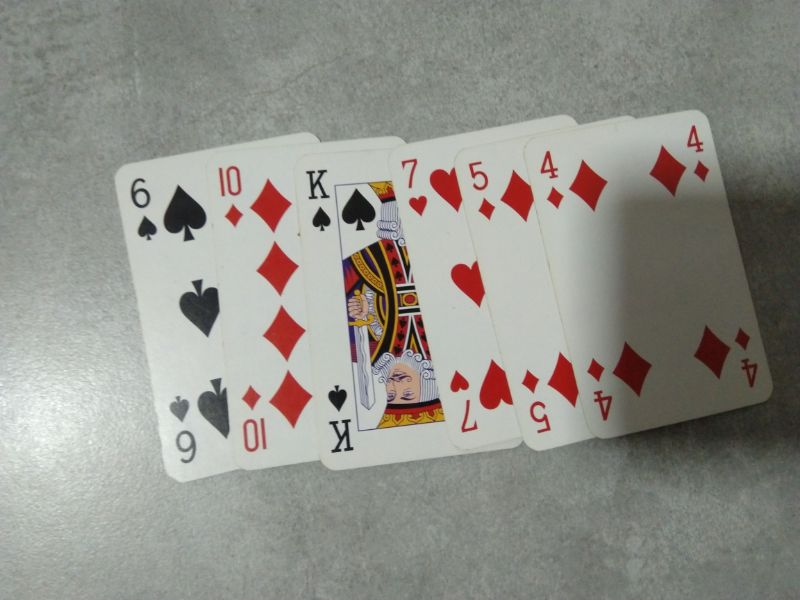4d: (579, 352, 624, 430), (725, 322, 772, 395), (532, 143, 572, 213), (677, 117, 717, 185)
5d: (512, 360, 559, 440), (460, 154, 504, 224)
6s: (161, 390, 206, 469), (122, 169, 164, 248)
7h: (391, 151, 440, 223), (443, 365, 483, 441)
Ks: (318, 377, 362, 457), (299, 163, 340, 238)
Td: (230, 377, 274, 458), (211, 155, 253, 231)
